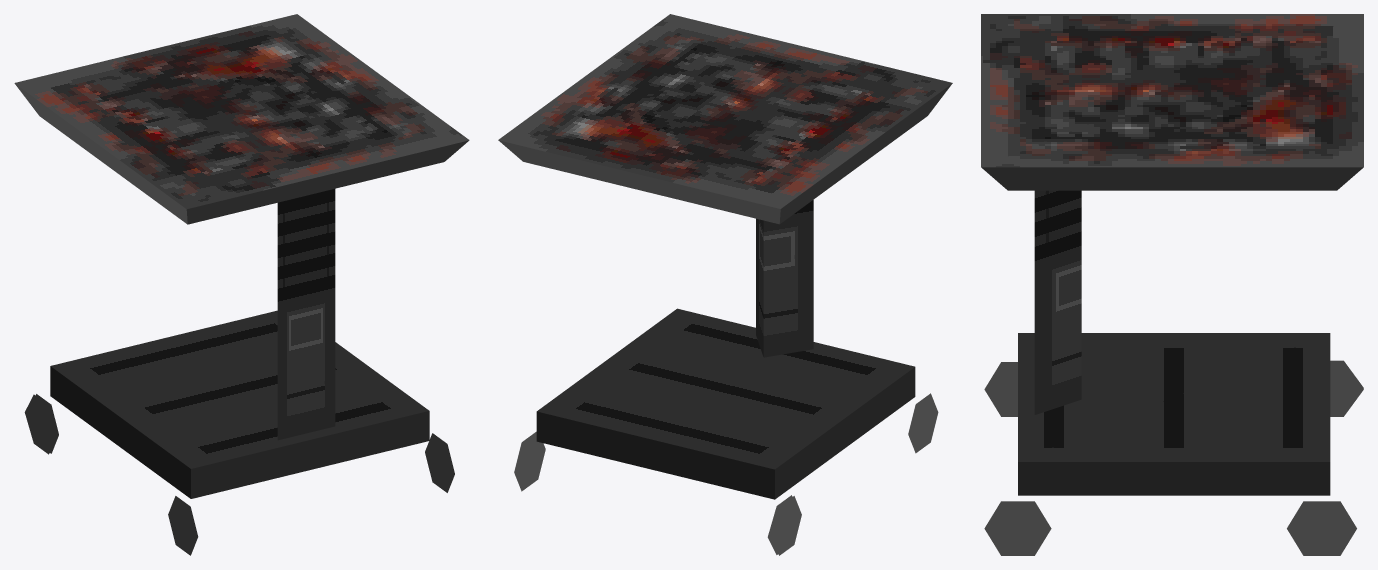
3 renders of one model, left to right at view 1: azimuth 30°, elevation 25°; view 2: azimuth 150°, elevation 25°; view 3: azimuth 270°, elevation 25°, orthographic. The views are drawn at different scales.
Visible parts, largest first — view 1: ss3d_20_med_cart; view 2: ss3d_20_med_cart; view 3: ss3d_20_med_cart.
Part boxes in pixels (x1,y1,x2,y2): ss3d_20_med_cart: [14, 14, 469, 555]; ss3d_20_med_cart: [498, 14, 952, 555]; ss3d_20_med_cart: [981, 14, 1363, 555].
Size of the model in its own units: 0.8438 by 1.02 by 0.8906.
1 material, 1 textured.
